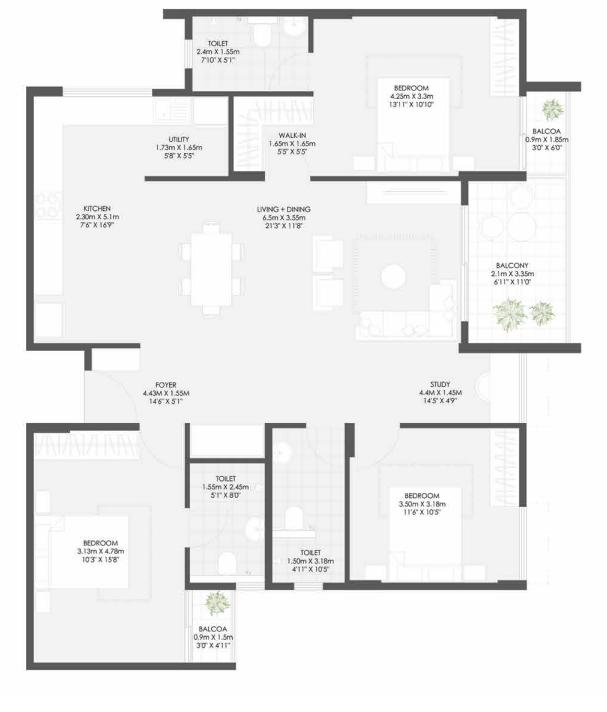Balcony: (463, 180, 572, 341)
Bedroom: (33, 436, 189, 664), (311, 16, 521, 173), (353, 429, 520, 583)
Dining Room: (148, 181, 271, 344)
Foyer: (89, 350, 342, 423)
Kitchen: (33, 97, 148, 348)
Living Room: (274, 179, 460, 348)
balcoa: (524, 89, 570, 176), (190, 583, 236, 667)
study: (343, 349, 523, 421)
toilet: (271, 427, 343, 587), (189, 460, 266, 584), (189, 17, 311, 93)
utility: (143, 99, 228, 176)
walkin: (233, 97, 311, 176)
